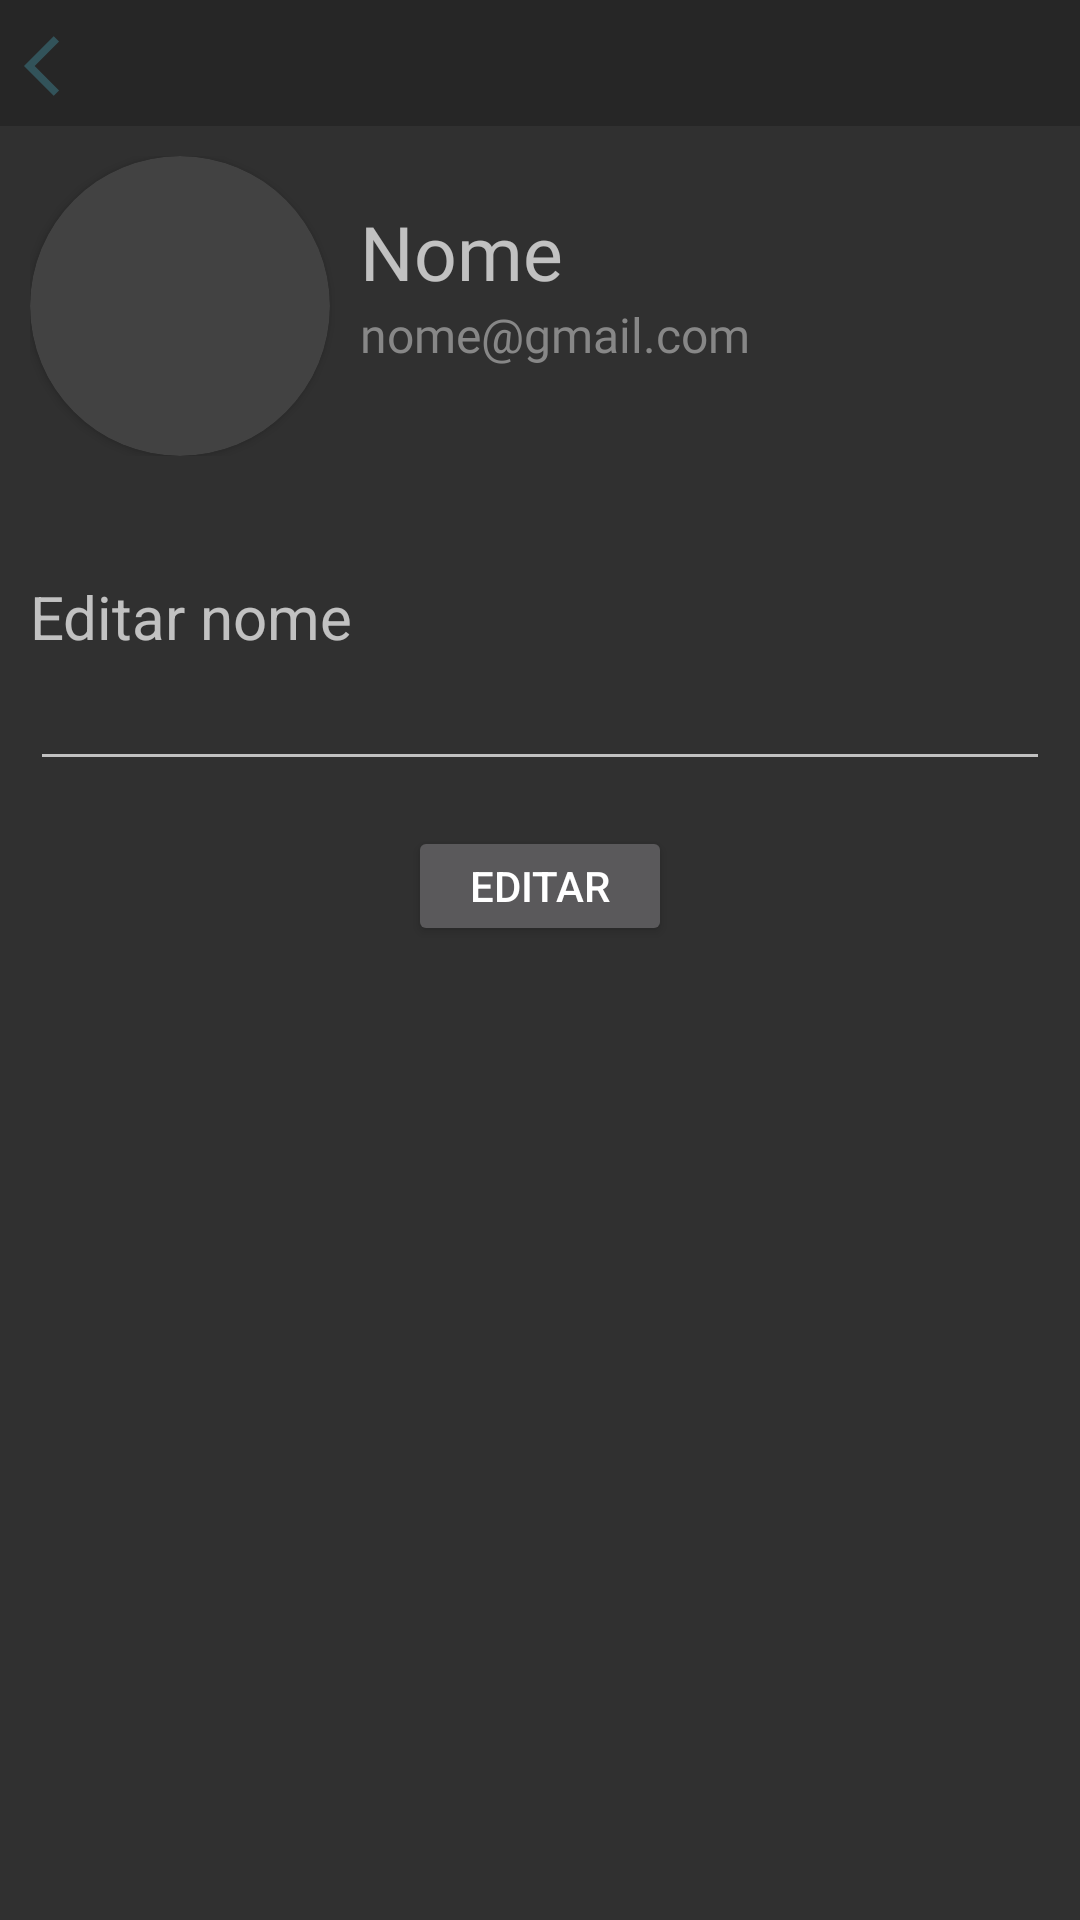

Icons on this 1080*1920 Android screen, each with its box as (x1, y1, x2, y2):
arrow back: (24, 36, 59, 96)
